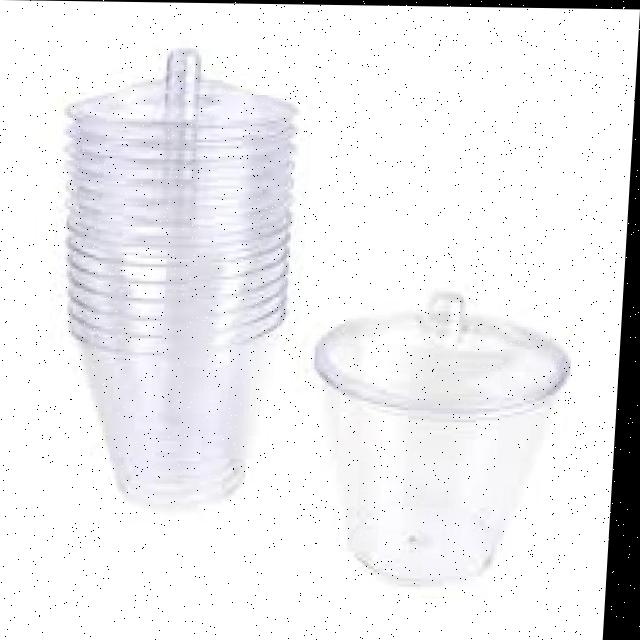cup: (310, 295, 585, 614)
